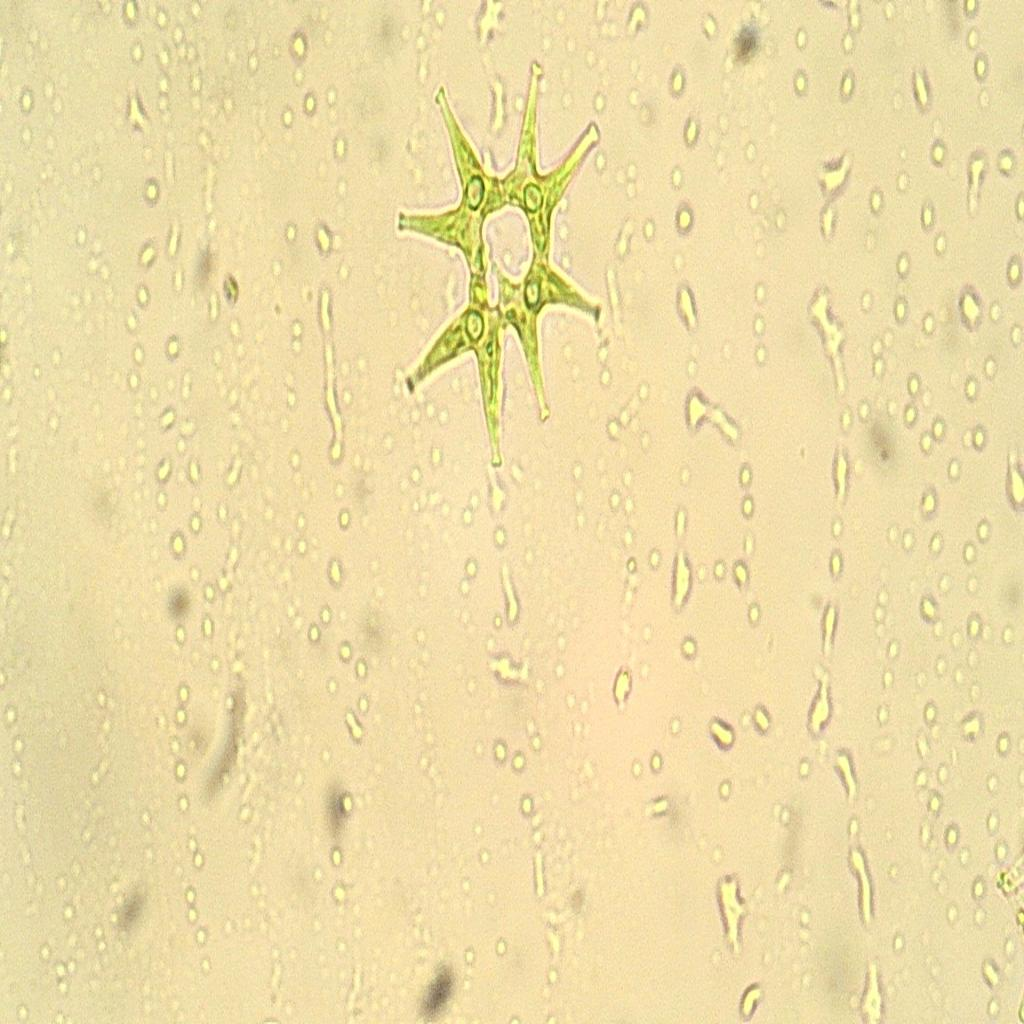Pediastrum_75FO: (381, 32, 617, 474)
